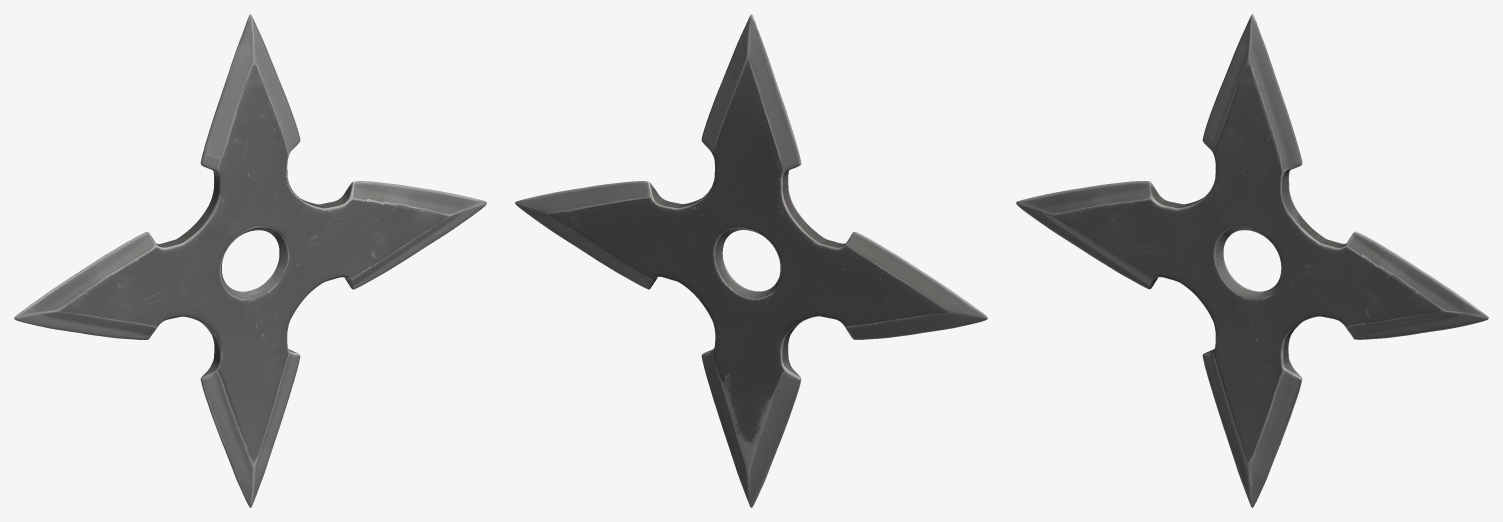
The model's file is tripo_convert_1e032ad1-66d8-4ba9-a333-279be3bc3a48.fbx.
The picture shows the model from 3 angles, left to right: view 1: azimuth 30°, elevation 25°; view 2: azimuth 150°, elevation 25°; view 3: azimuth 330°, elevation 25°; orthographic projection.
Parts seen in each view (by area): view 1: tripo_node_1e032ad1; view 2: tripo_node_1e032ad1; view 3: tripo_node_1e032ad1.
Part boxes in pixels (x1,y1,x2,y2): tripo_node_1e032ad1: [14, 14, 486, 507]; tripo_node_1e032ad1: [515, 14, 987, 507]; tripo_node_1e032ad1: [1016, 14, 1488, 507].
Bounding box in the file's own units: 1 × 0.9982 × 0.0291.
Materials: 1 (1 with a texture image).
